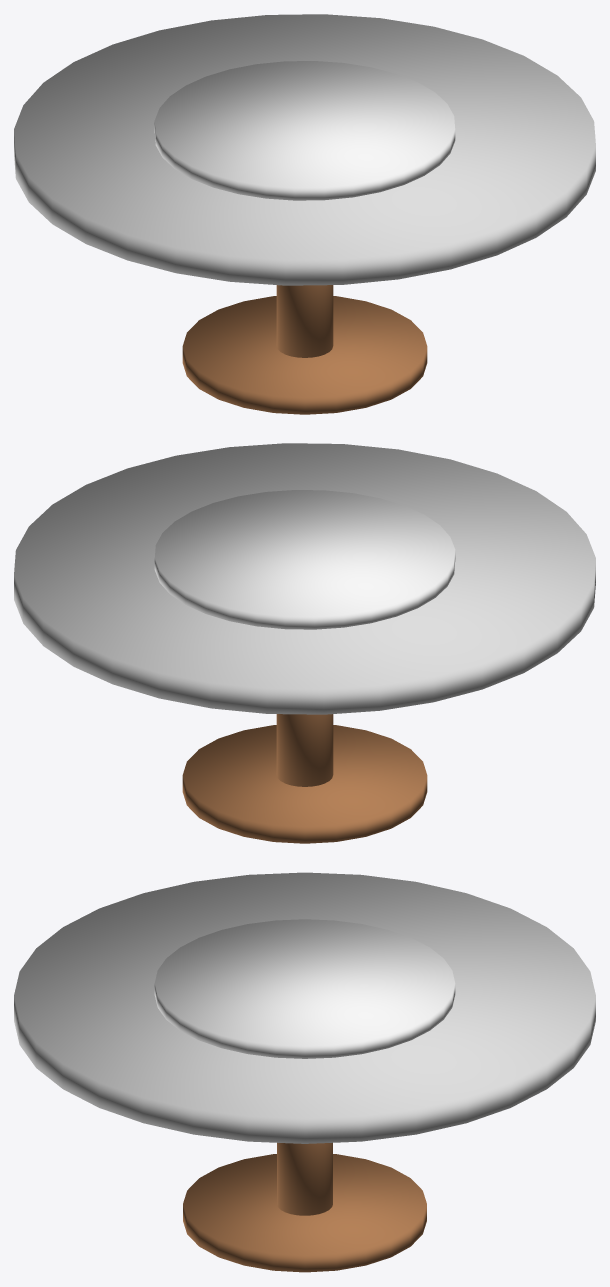
File: Table.fbx
3 renders of one model, top to bottom at view 1: azimuth 30°, elevation 25°; view 2: azimuth 150°, elevation 25°; view 3: azimuth 270°, elevation 25°, orthographic.
Parts seen in each view (by area): view 1: Table; view 2: Table; view 3: Table.
Part boxes in pixels (x1,y1,x2,y2): Table: [14, 14, 595, 414]; Table: [14, 443, 595, 843]; Table: [14, 872, 595, 1272].
Size of the model in its own units: 1.24 by 0.56 by 1.24.
